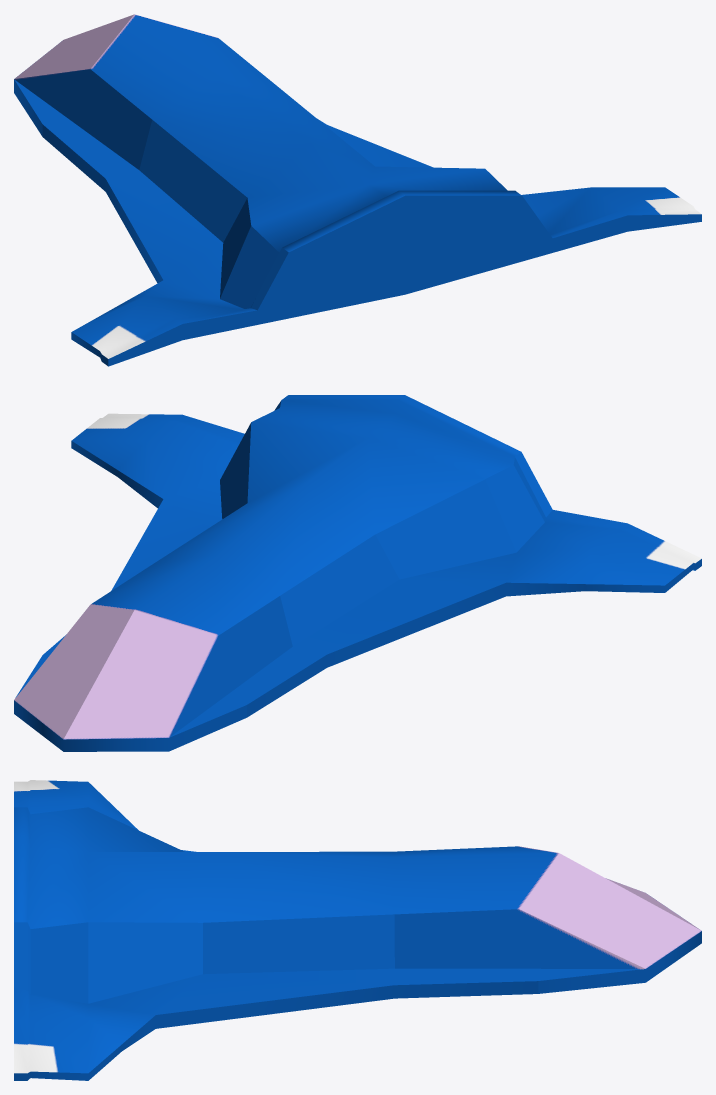
File: nave_2.FBX
3 renders of one model, top to bottom at view 1: azimuth 30°, elevation 25°; view 2: azimuth 150°, elevation 25°; view 3: azimuth 270°, elevation 25°, orthographic.
Parts seen in each view (by area): view 1: Box001; view 2: Box001; view 3: Box001.
Boxes of the visible parts, <box> form: Box001: <box>14,14,701,366</box>; Box001: <box>14,395,701,751</box>; Box001: <box>14,780,701,1080</box>.
Size of the model in its own units: 100 by 17.44 by 100.
